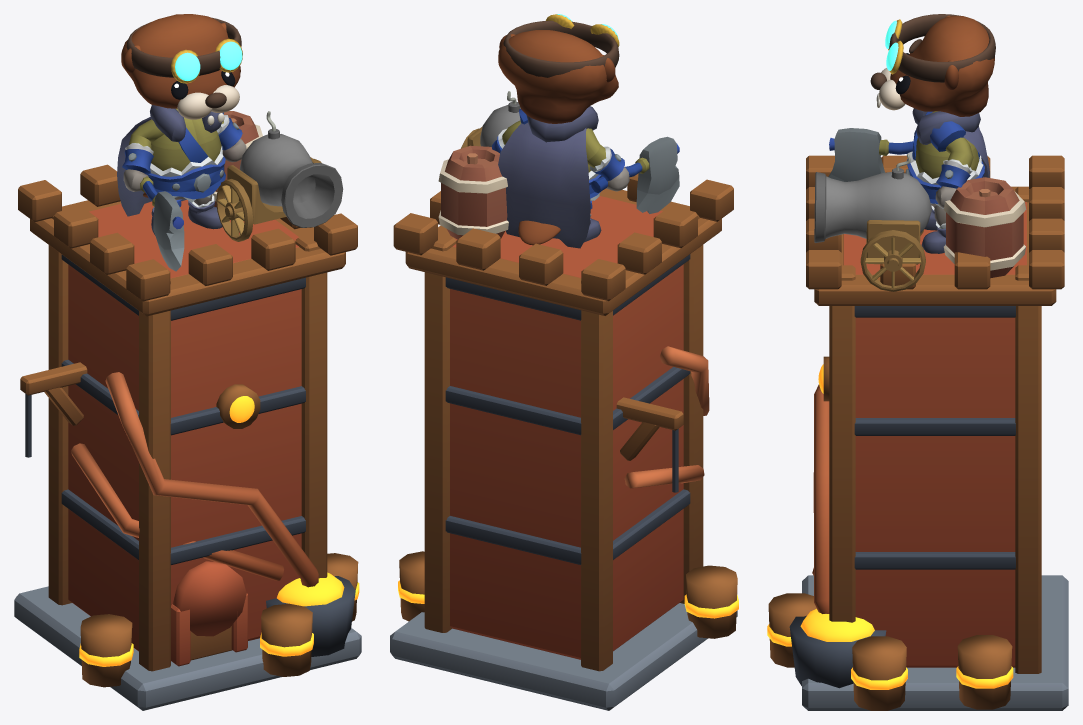
The model's file is tower_beaver_resin.glb.
3 views of the same model, side by side, from view 1: azimuth 30°, elevation 25°; view 2: azimuth 150°, elevation 25°; view 3: azimuth 270°, elevation 25° (orthographic). The views are drawn at different scales.
Parts seen in each view (by area): view 1: CustomTowerBase_beaver_resin, Cannon, Barbarian_Body, BvHead, 1H_Axe, Cannon_Wheels, Barbarian_ArmRight, NativeHat_GoggleStrap, Barbarian_Cape, Barbarian_ArmLeft, barrel, Barbarian_LegLeft (+2 smaller); view 2: CustomTowerBase_beaver_resin, Barbarian_Cape, BvHead, barrel, 1H_Axe, NativeHat_GoggleStrap, Barbarian_ArmRight, Barbarian_Body, Cannon, BeaverPaddleTail; view 3: CustomTowerBase_beaver_resin, Cannon, barrel, BvHead, Barbarian_Body, 1H_Axe, NativeHat_GoggleStrap, Barbarian_ArmLeft, Cannon_Wheels, Barbarian_LegLeft, WhiskerPad_1, Barbarian_Cape.
Boxes of the visible parts, x1,y1,x2,y2 form: CustomTowerBase_beaver_resin: (14, 164, 361, 710); Cannon: (227, 111, 343, 227); Barbarian_Body: (147, 105, 225, 202); BvHead: (121, 14, 240, 108); 1H_Axe: (140, 176, 184, 271); Cannon_Wheels: (216, 158, 321, 241); Barbarian_ArmRight: (122, 119, 163, 191); NativeHat_GoggleStrap: (126, 17, 241, 77); Barbarian_Cape: (117, 117, 186, 216); Barbarian_ArmLeft: (216, 112, 246, 162); barrel: (212, 111, 262, 207); Barbarian_LegLeft: (188, 194, 222, 229); CustomTowerBase_beaver_resin: (390, 173, 738, 710); Barbarian_Cape: (498, 122, 590, 248); BvHead: (498, 30, 618, 123); barrel: (438, 145, 508, 239); 1H_Axe: (591, 136, 679, 213); NativeHat_GoggleStrap: (503, 20, 619, 77); Barbarian_ArmRight: (586, 128, 629, 191); Barbarian_Body: (526, 106, 602, 200); Cannon: (467, 91, 520, 147); BeaverPaddleTail: (518, 220, 560, 245); CustomTowerBase_beaver_resin: (767, 155, 1068, 710); Cannon: (814, 153, 932, 264); barrel: (943, 177, 1026, 278); BvHead: (890, 16, 994, 116); Barbarian_Body: (905, 108, 984, 208); 1H_Axe: (828, 128, 913, 181); NativeHat_GoggleStrap: (889, 14, 995, 82); Barbarian_ArmLeft: (930, 121, 973, 207); Cannon_Wheels: (860, 230, 925, 291); Barbarian_LegLeft: (921, 205, 945, 253); WhiskerPad_1: (879, 79, 905, 110); Barbarian_Cape: (963, 126, 989, 177).
Bounding box in the file's own units: 1.08 × 2.25 × 0.972.
Materials: 13 (4 with a texture image).
